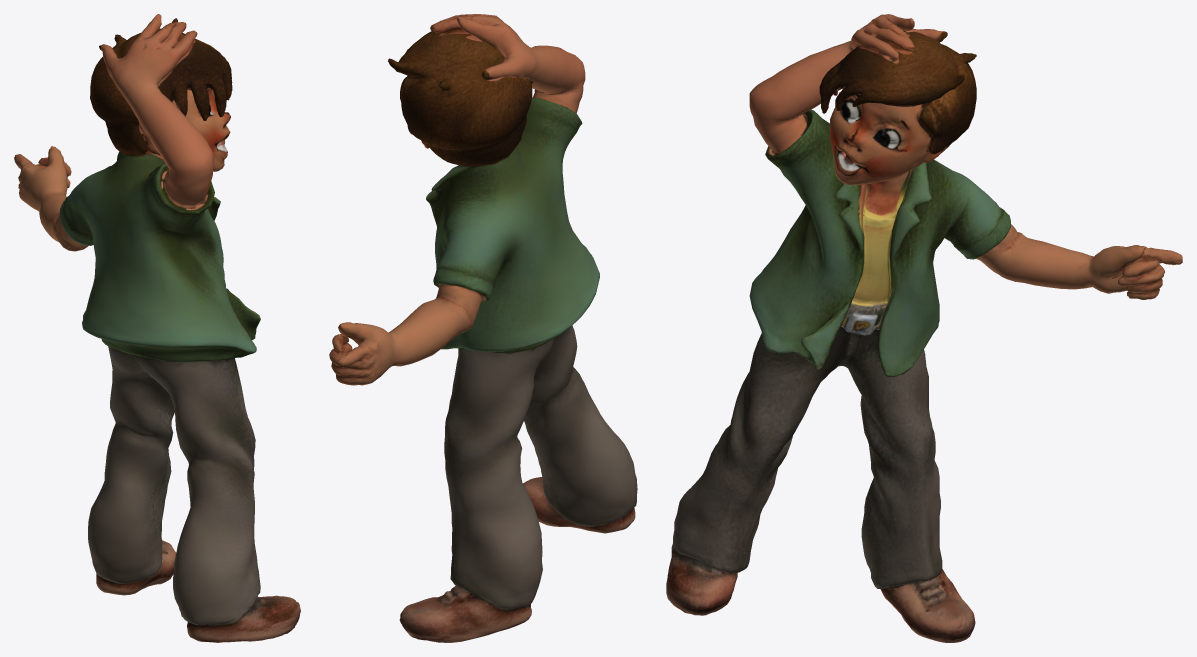
The model's file is child-green-shirt.glb.
3 views of the same model, side by side, from view 1: azimuth 30°, elevation 25°; view 2: azimuth 150°, elevation 25°; view 3: azimuth 270°, elevation 25° (orthographic). The views are drawn at different scales.
Visible parts, largest first — view 1: tripo_node_31d5c1fa-05d9-4f34-956d-4ff9ed005195; view 2: tripo_node_31d5c1fa-05d9-4f34-956d-4ff9ed005195; view 3: tripo_node_31d5c1fa-05d9-4f34-956d-4ff9ed005195.
Boxes of the visible parts, x1,y1,x2,y2 form: tripo_node_31d5c1fa-05d9-4f34-956d-4ff9ed005195: (14, 14, 300, 642); tripo_node_31d5c1fa-05d9-4f34-956d-4ff9ed005195: (329, 14, 637, 642); tripo_node_31d5c1fa-05d9-4f34-956d-4ff9ed005195: (666, 14, 1182, 642).
Bounding box in the file's own units: 0.2603 × 1 × 0.7652.
Materials: 1 (1 with a texture image).
